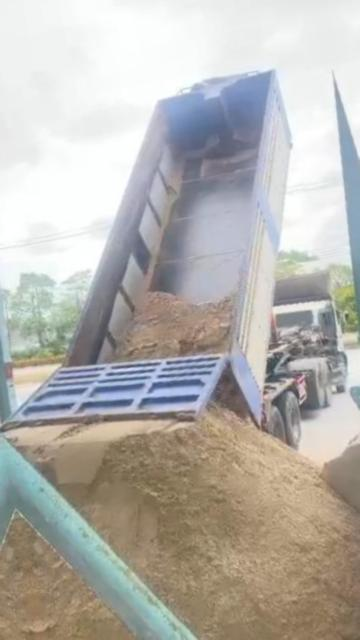sand: (61, 408, 360, 640), (18, 520, 188, 640), (7, 419, 191, 485), (112, 293, 233, 361), (323, 429, 360, 536)
